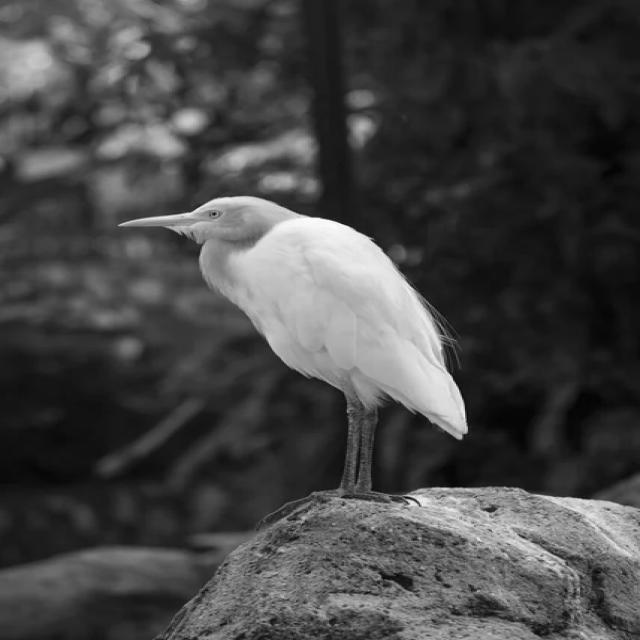Animal: (125, 196, 468, 504)
